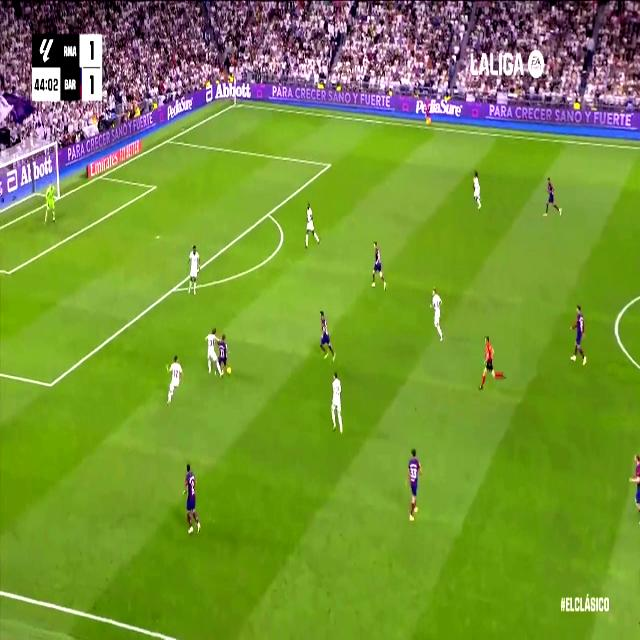bigarea_bottom_inner: (45, 372, 56, 398)
bigarea_top_inner: (326, 156, 332, 172)
bigarea_top_outter: (165, 133, 172, 145)
bottom_arc_area_intersection: (171, 281, 178, 295)
corner: (231, 98, 239, 109)
smallarea_bottom_inner: (4, 262, 14, 282)
smallarea_top_inner: (152, 181, 156, 191)
top_arc_area_intersection: (264, 205, 272, 221)
